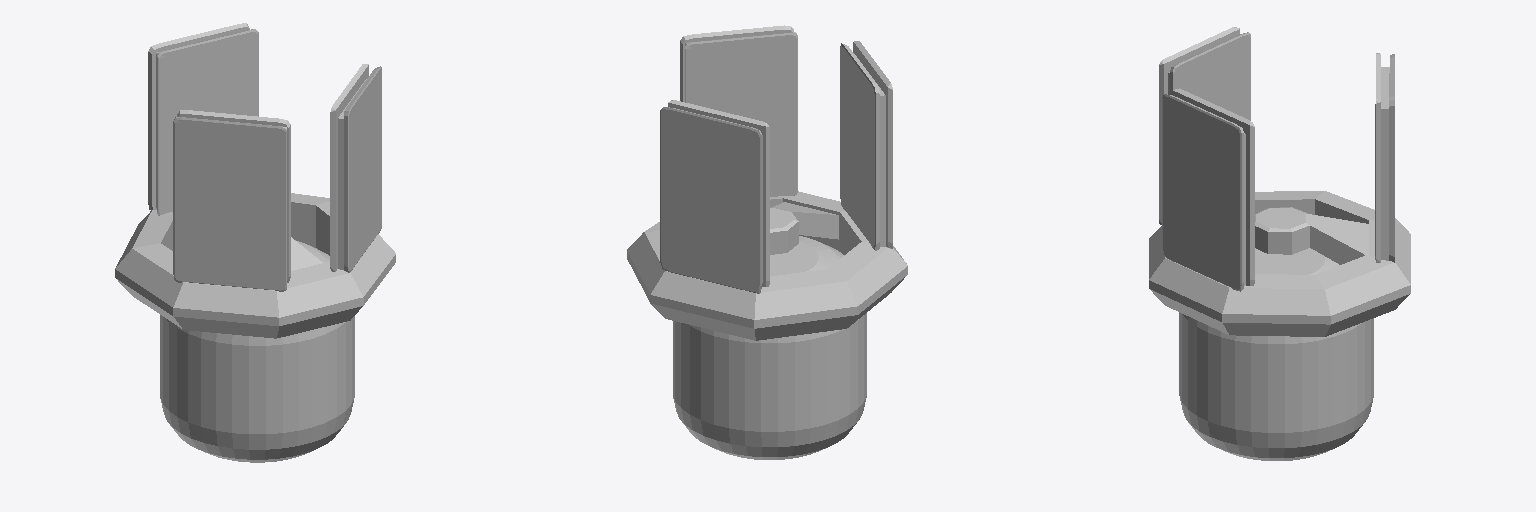
The model's file is Head.obj.
3 renders of one model, left to right at view 1: azimuth 30°, elevation 25°; view 2: azimuth 150°, elevation 25°; view 3: azimuth 270°, elevation 25°, orthographic.
Parts seen in each view (by area): view 1: crown, head; view 2: crown, head; view 3: crown, head.
Part boxes in pixels (x1,y1,x2,y2): crown: (115,23,395,338); head: (160,240,354,462); crown: (627,25,907,340); head: (673,236,866,459); crown: (1149,27,1410,336); head: (1179,248,1373,460).
Size of the model in its own units: 0.6755 by 1.01 by 0.6634.